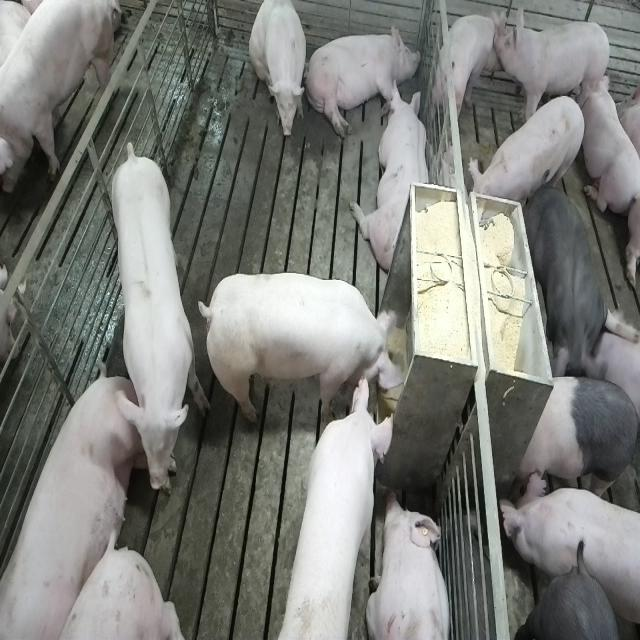Feeding: (196, 267, 408, 429), (278, 376, 398, 640)
Lateral_lying: (304, 20, 422, 140)
Sitting: (249, 2, 308, 146)
Standing: (105, 137, 200, 496), (499, 469, 638, 635), (0, 0, 117, 194), (515, 371, 638, 510), (524, 181, 599, 383), (472, 95, 589, 217), (513, 560, 627, 638), (437, 13, 502, 129)
Sternal_lying: (353, 78, 432, 274), (368, 492, 454, 640), (580, 69, 636, 220), (615, 63, 640, 163)
